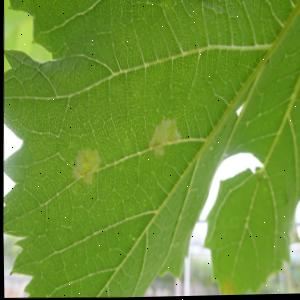Folha: (0, 0, 300, 300)
Fungo: (146, 114, 180, 157), (69, 144, 101, 185)
